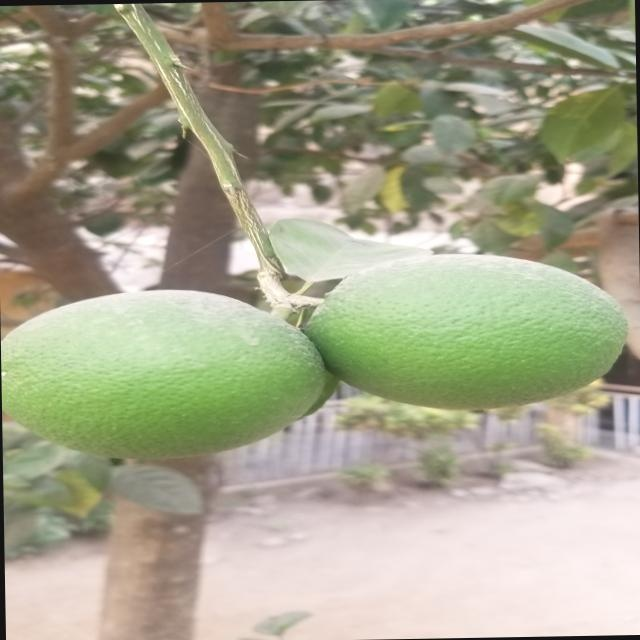agrume: (0, 287, 335, 464), (309, 248, 628, 409)
